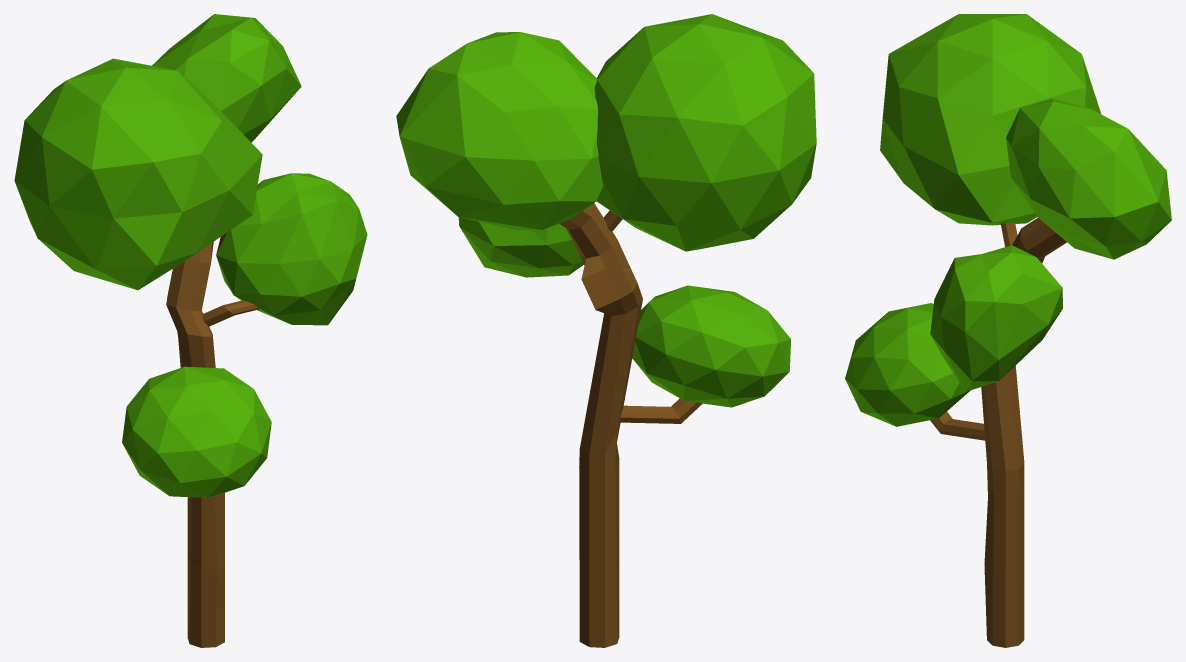
The model's file is ArbolitoSimpleV2.fbx.
The picture shows the model from 3 angles, left to right: view 1: azimuth 30°, elevation 25°; view 2: azimuth 150°, elevation 25°; view 3: azimuth 270°, elevation 25°; orthographic projection. The views are drawn at different scales.
Visible parts, largest first — view 1: Cylinder.002; view 2: Cylinder.002; view 3: Cylinder.002.
Boxes of the visible parts, bbox=[...] form: Cylinder.002: bbox=[14, 14, 367, 647]; Cylinder.002: bbox=[396, 14, 816, 647]; Cylinder.002: bbox=[845, 14, 1171, 647].
Bounding box in the file's own units: 448 × 797 × 407.
1 material, 1 textured.
